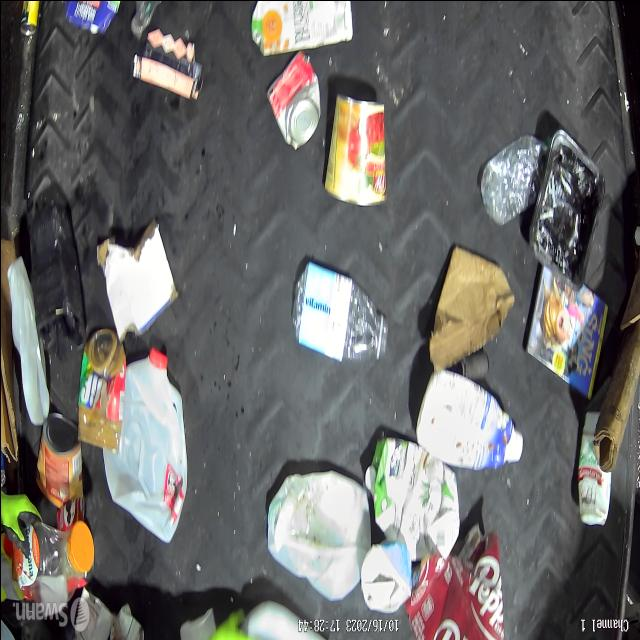can: (326, 86, 388, 206), (30, 408, 81, 526), (268, 59, 320, 150)
milk_jug: (103, 343, 188, 543), (265, 466, 368, 600)
non_white_jug: (415, 366, 525, 469)
plastic_bottle: (286, 252, 386, 366), (478, 145, 540, 228)
